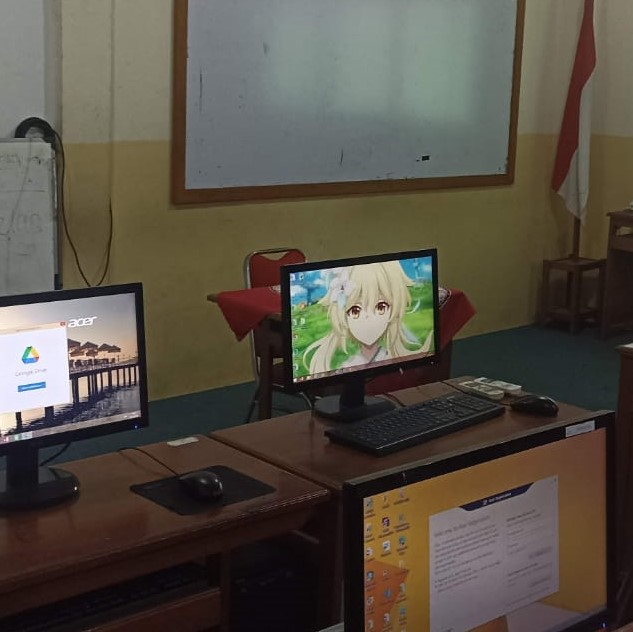monitor: (169, 1, 523, 208), (278, 247, 443, 412), (1, 282, 150, 456), (0, 139, 60, 296)
